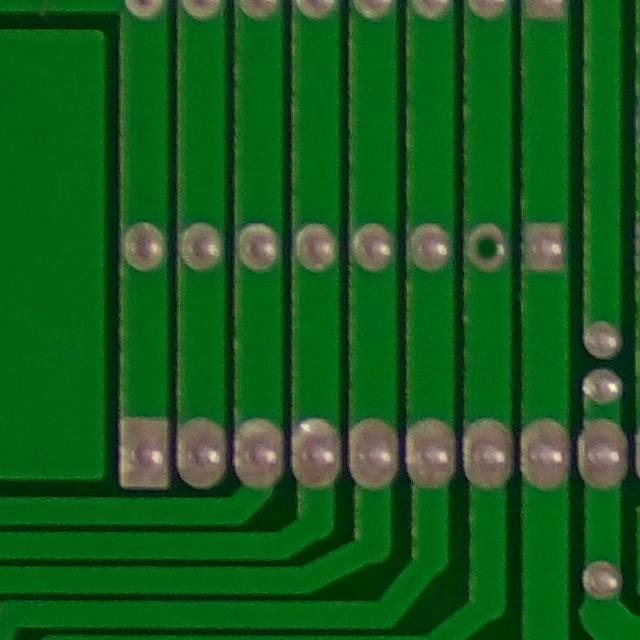missing_hole: (457, 219, 515, 277)
